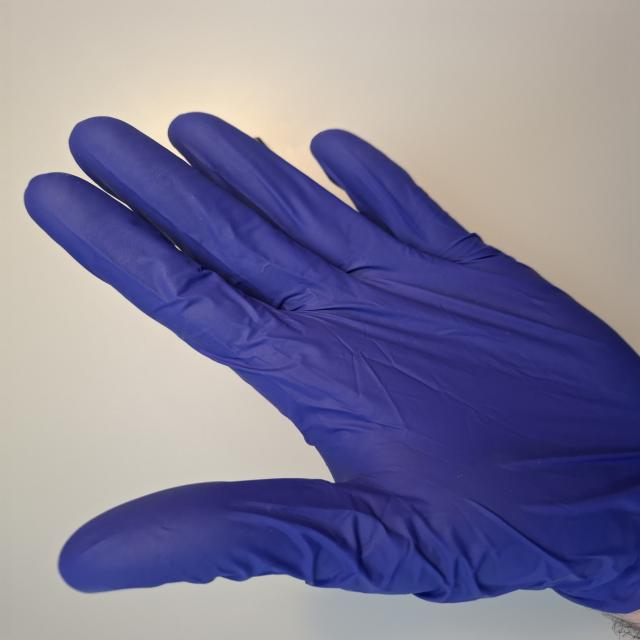glove_on: (21, 110, 640, 619)
